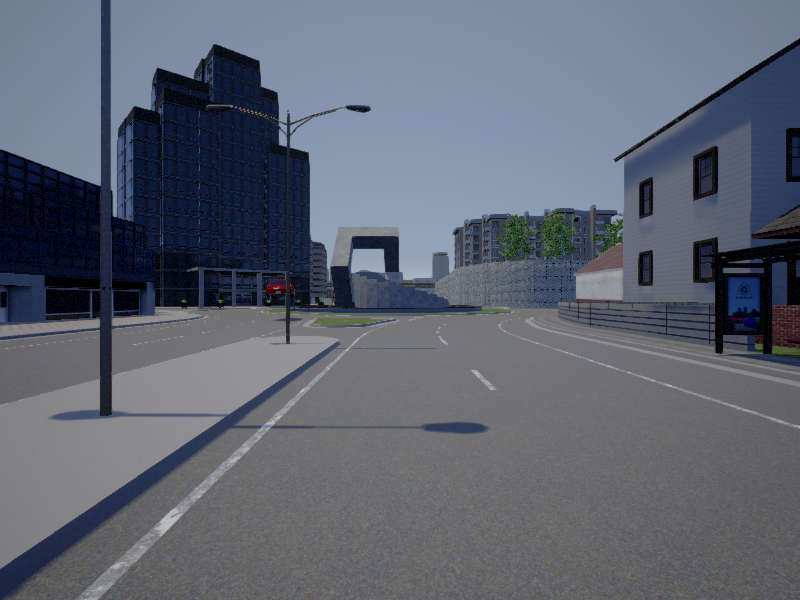Attacker: (268, 277, 294, 294)
